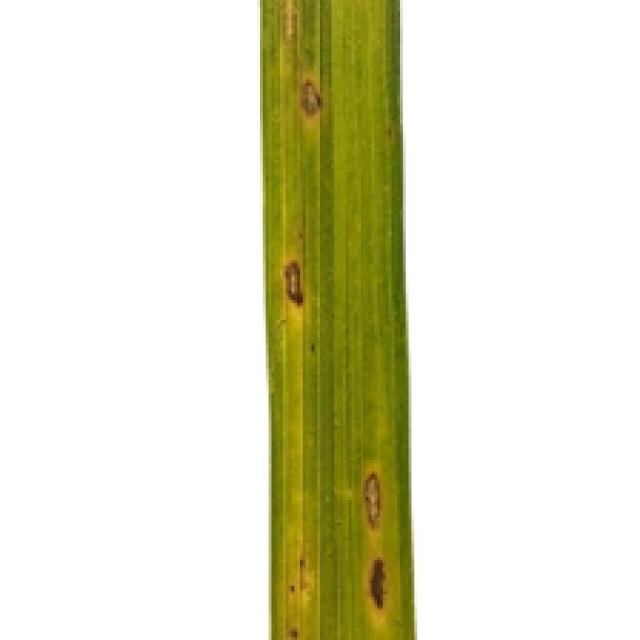Rice___Rice_Blast: (260, 0, 419, 637)
